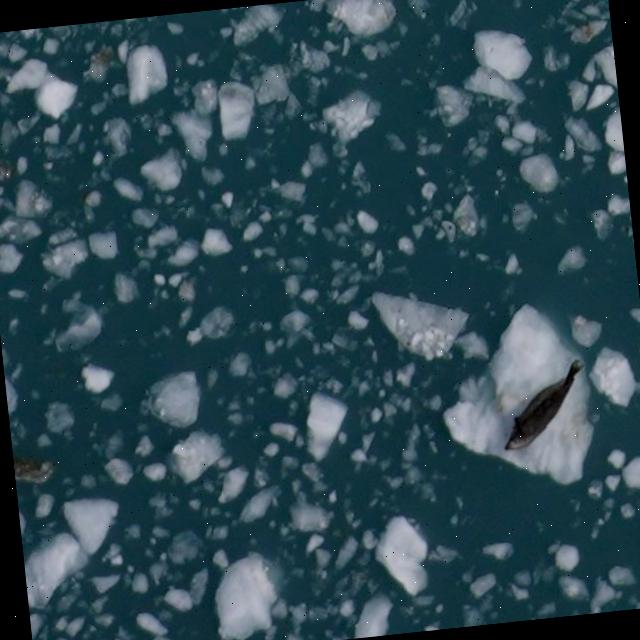seal: (492, 353, 596, 461)
